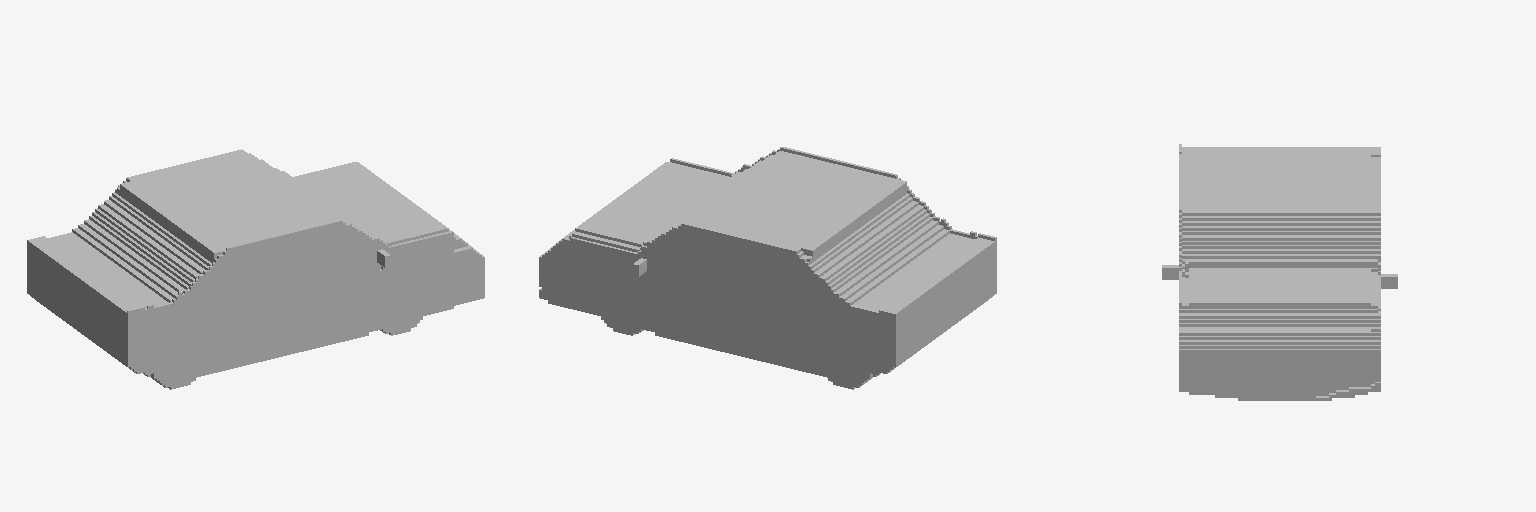
File: yellow.obj
The picture shows the model from 3 angles: view 1: azimuth 30°, elevation 25°; view 2: azimuth 150°, elevation 25°; view 3: azimuth 270°, elevation 25°; orthographic projection.
Bounding box in the file's own units: 126 × 43 × 72.